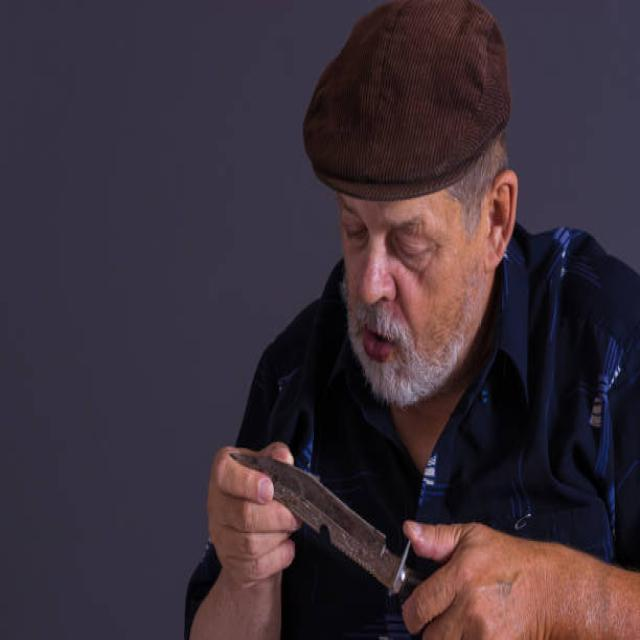faca: (227, 426, 523, 640)
